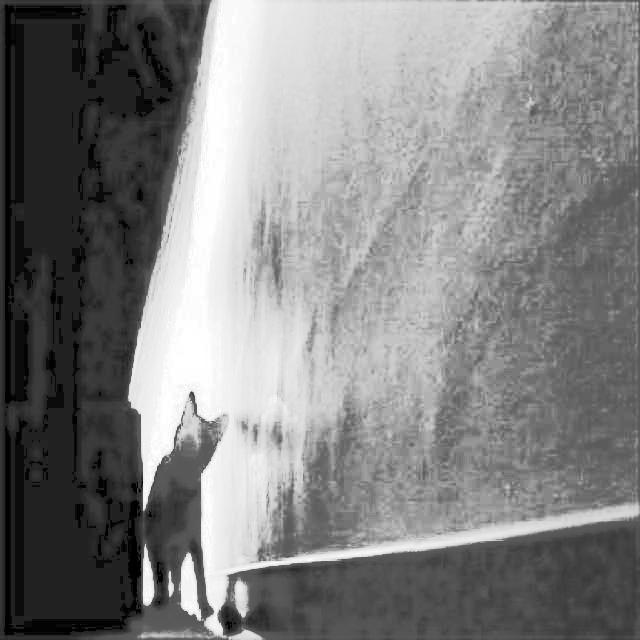Cat: (141, 387, 232, 630)
